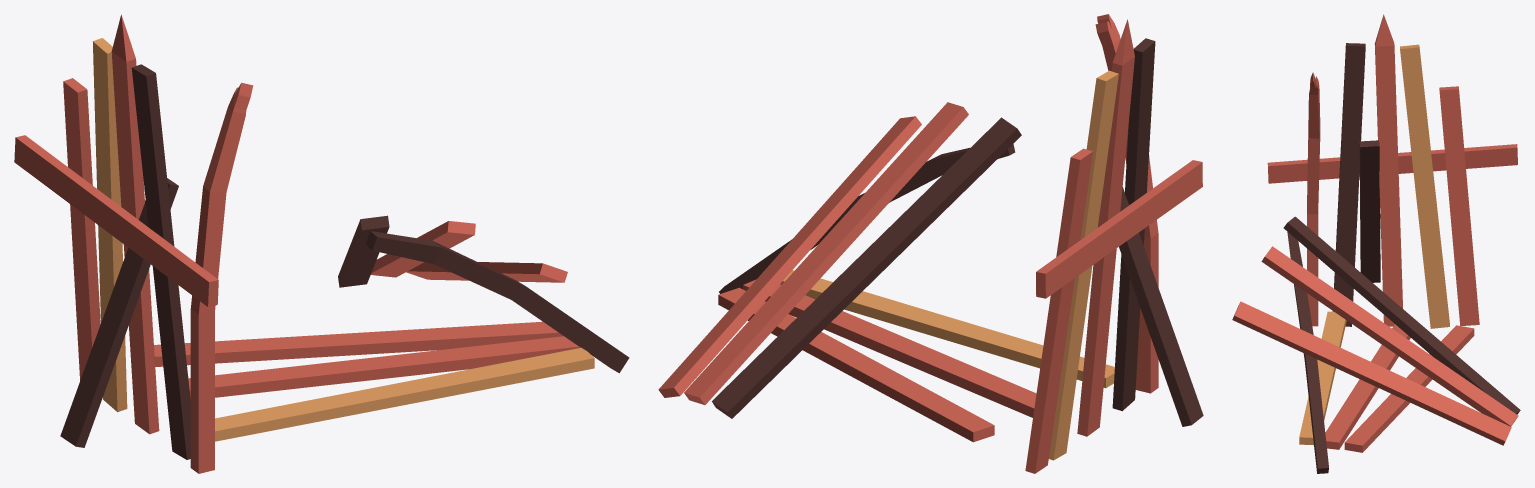
Rendered from wooden_remains.fbx.
3 views of the same model, side by side, from view 1: azimuth 30°, elevation 25°; view 2: azimuth 150°, elevation 25°; view 3: azimuth 270°, elevation 25° (orthographic). The views are drawn at different scales.
Visible parts, largest first — view 1: Cube; view 2: Cube; view 3: Cube.
Part boxes in pixels (box(x1,y1,x2,y2)): Cube: box(14, 14, 629, 473); Cube: box(658, 14, 1203, 473); Cube: box(1232, 14, 1520, 473).
Bounding box in the file's own units: 1440 × 1140 × 976.
